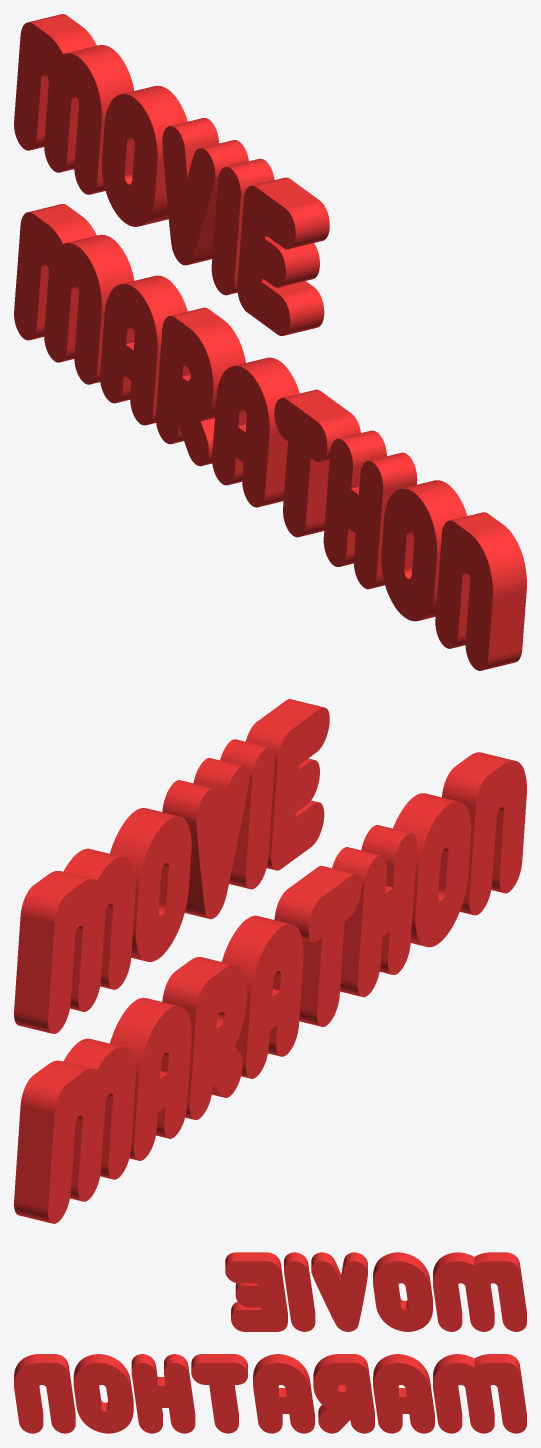
The model's file is sm_title.fbx.
3 views of the same model, one above another, from view 1: azimuth 30°, elevation 25°; view 2: azimuth 150°, elevation 25°; view 3: azimuth 270°, elevation 25° (orthographic). The views are drawn at different scales.
Parts seen in each view (by area): view 1: TextPlus001; view 2: TextPlus001; view 3: TextPlus001.
Part boxes in pixels (box(x1,y1,x2,y2)): TextPlus001: box(14, 14, 526, 670); TextPlus001: box(14, 699, 526, 1223); TextPlus001: box(14, 1252, 526, 1433).
Size of the model in its own units: 13.63 by 123 by 332.
